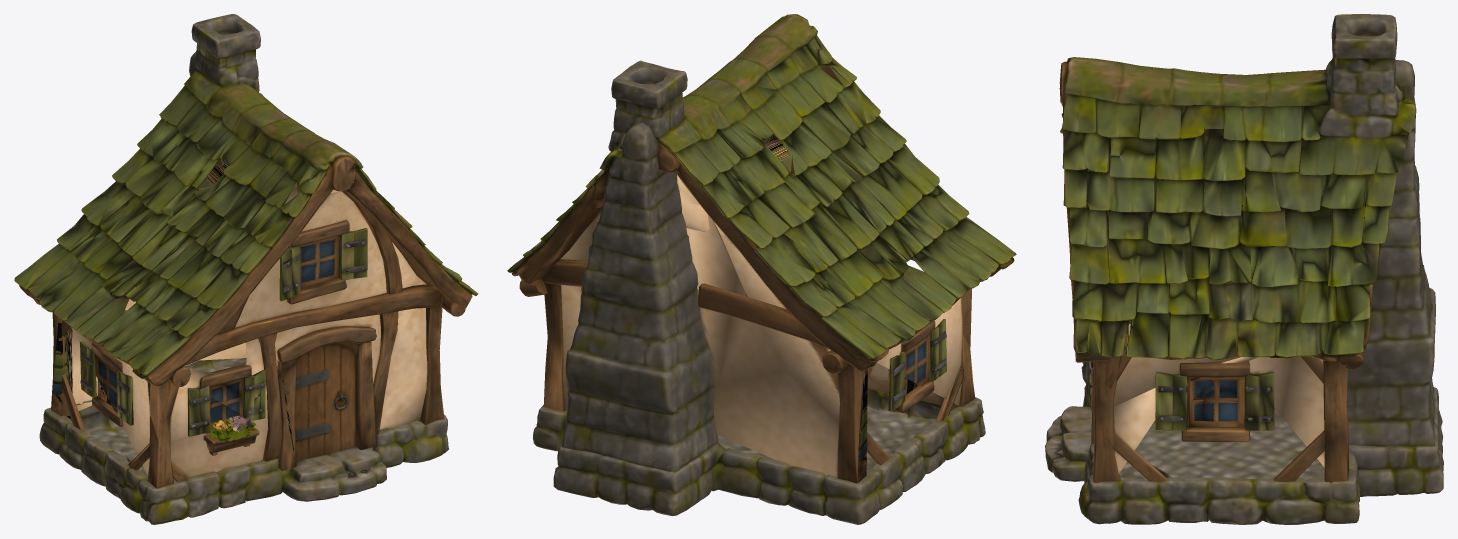
The model's file is CC_Hut.fbx.
3 renders of one model, left to right at view 1: azimuth 30°, elevation 25°; view 2: azimuth 150°, elevation 25°; view 3: azimuth 270°, elevation 25°, orthographic. The views are drawn at different scales.
Parts seen in each view (by area): view 1: Meadow_Woodland_Hut; view 2: Meadow_Woodland_Hut; view 3: Meadow_Woodland_Hut.
Part boxes in pixels (<box>): Meadow_Woodland_Hut: <box>14,14,478,524</box>; Meadow_Woodland_Hut: <box>507,14,1016,524</box>; Meadow_Woodland_Hut: <box>1045,14,1443,524</box>.
Size of the model in its own units: 4.22 by 4.29 by 3.56.
